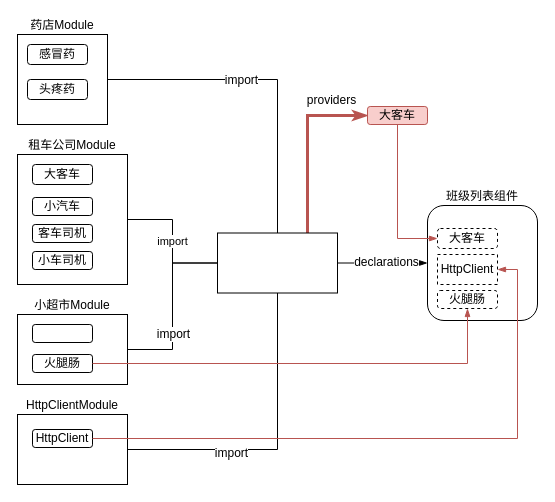
This 555x502 diagram has some shape labels left out. Here are the shapes that lost their labels. From the top down, the centre of each, then its label:
At point 277,262: "班级Module".
At point 62,333: "方便面".
